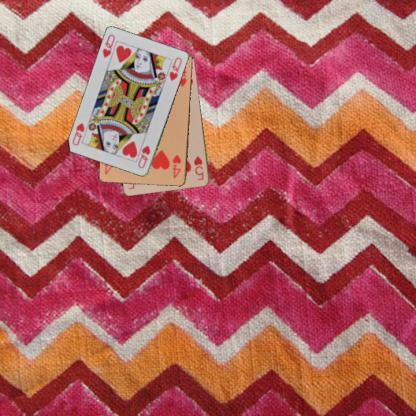4h: (170, 152, 182, 180)
5h: (191, 154, 205, 182)
Qh: (136, 143, 152, 170), (100, 32, 116, 59)
